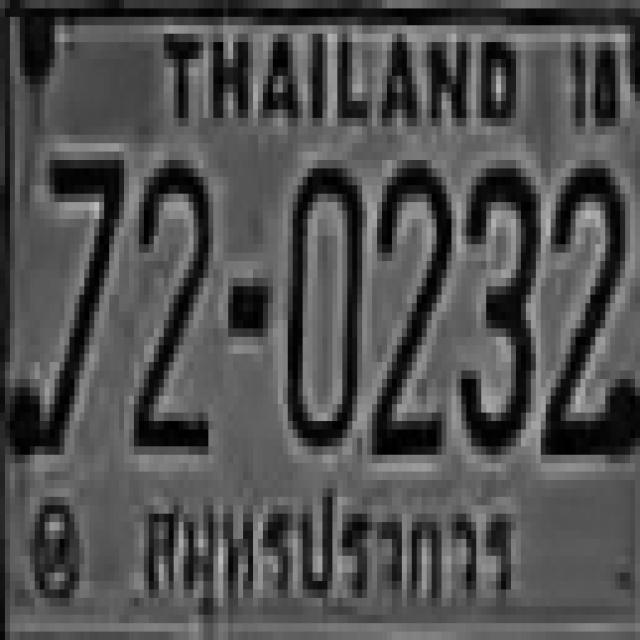0: (283, 160, 357, 446)
2: (543, 156, 633, 450), (370, 156, 449, 450), (134, 152, 208, 446)
3: (456, 160, 536, 446)
7: (45, 152, 119, 446)
SamutPrakan: (133, 472, 531, 624)
